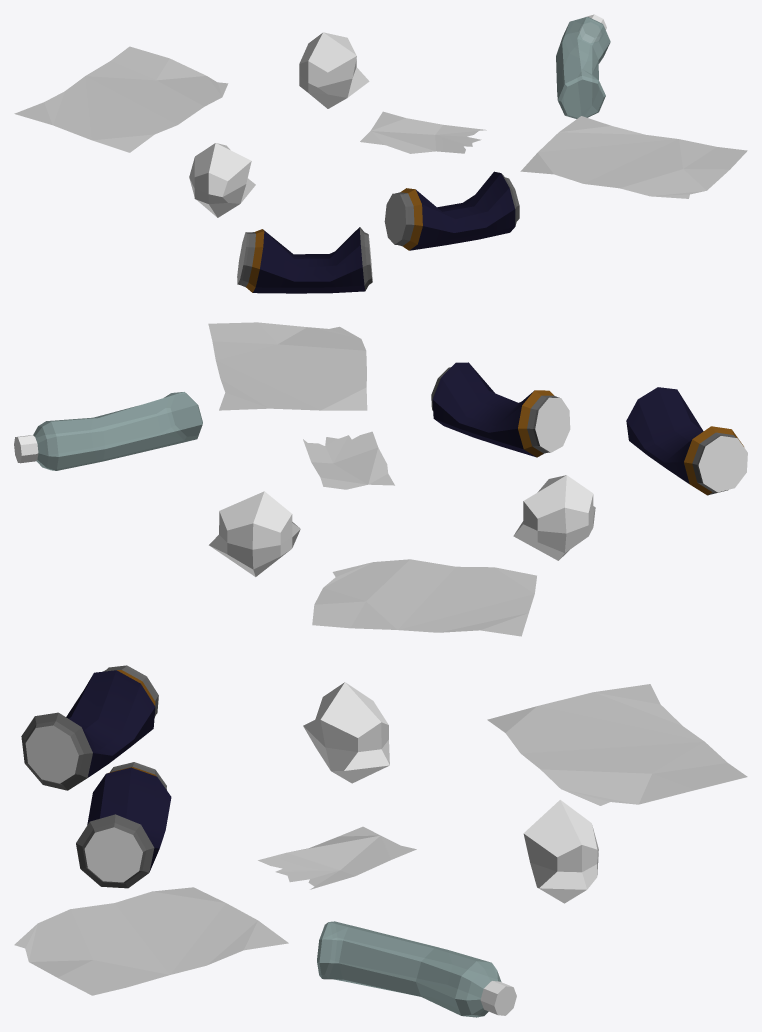
File: WarehouseTrash8.glb
3 views of the same model, one above another, from view 1: azimuth 30°, elevation 25°; view 2: azimuth 150°, elevation 25°; view 3: azimuth 270°, elevation 25° (orthographic). The views are drawn at different scales.
Visible parts, largest first — view 1: SM_Paper_04.008, SM_Paper_04.009, Soda.016, Soda.015, SM_Bottle_A_02.005, CrumpledPaper.008, CrumpledPaper.007, SM_Paper_01.005; view 2: SM_Paper_04.008, SM_Paper_04.009, SM_Bottle_A_02.005, Soda.015, Soda.016, CrumpledPaper.008, CrumpledPaper.007, SM_Paper_01.005; view 3: SM_Paper_04.008, SM_Paper_04.009, SM_Bottle_A_02.005, Soda.016, Soda.015, CrumpledPaper.007, CrumpledPaper.008, SM_Paper_01.005.
Part boxes in pixels (box(x1,y1,x2,y2)): SM_Paper_04.008: box(14, 46, 228, 152); SM_Paper_04.009: box(520, 116, 747, 198); Soda.016: box(237, 227, 372, 293); Soda.015: box(384, 171, 519, 250); SM_Bottle_A_02.005: box(556, 14, 610, 118); CrumpledPaper.008: box(299, 32, 369, 108); CrumpledPaper.007: box(189, 143, 255, 217); SM_Paper_01.005: box(360, 111, 486, 153); SM_Paper_04.008: box(312, 559, 536, 636); SM_Paper_04.009: box(208, 322, 367, 410); SM_Bottle_A_02.005: box(14, 392, 202, 470); Soda.015: box(431, 362, 570, 457); Soda.016: box(626, 387, 747, 495); CrumpledPaper.008: box(209, 491, 300, 576); CrumpledPaper.007: box(513, 475, 595, 560); SM_Paper_01.005: box(303, 431, 394, 489); SM_Paper_04.008: box(487, 684, 747, 805); SM_Paper_04.009: box(14, 887, 288, 995); SM_Bottle_A_02.005: box(317, 921, 516, 1017); Soda.016: box(21, 665, 158, 790); Soda.015: box(76, 762, 171, 888); CrumpledPaper.007: box(303, 682, 389, 783); CrumpledPaper.008: box(523, 800, 598, 903); SM_Paper_01.005: box(258, 826, 416, 889).
Size of the model in its own units: 0.4324 by 0.0621 by 0.4125.
